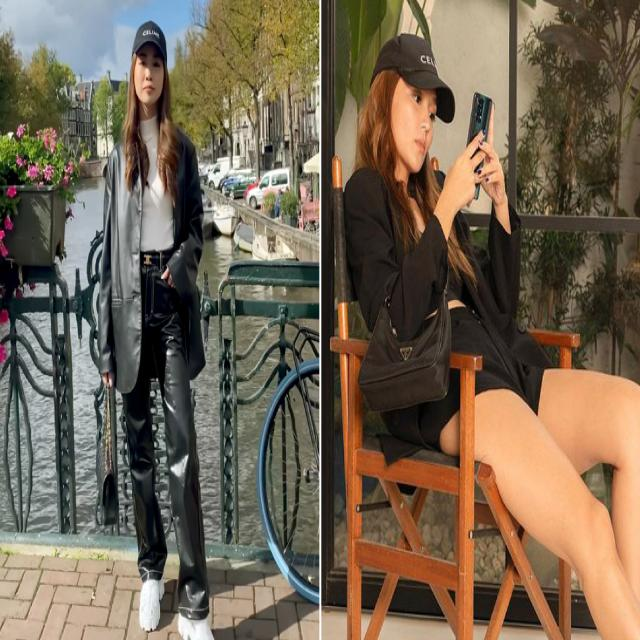mask: (373, 26, 479, 125), (133, 20, 178, 82)
